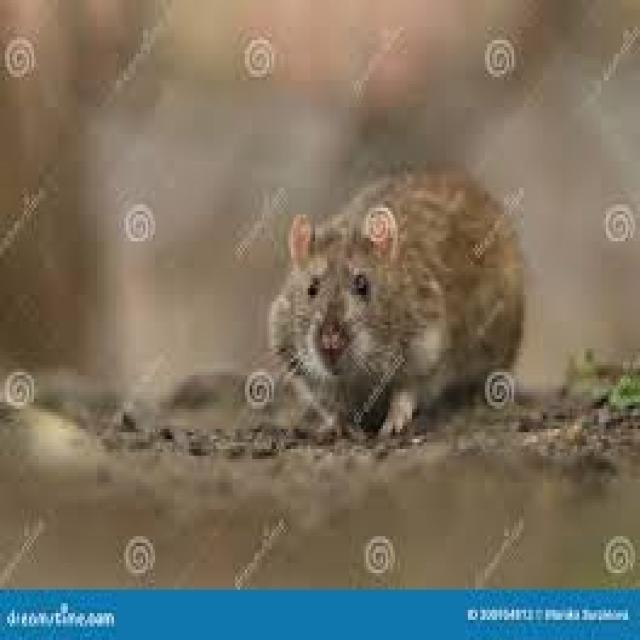Rat: (246, 133, 571, 430)
